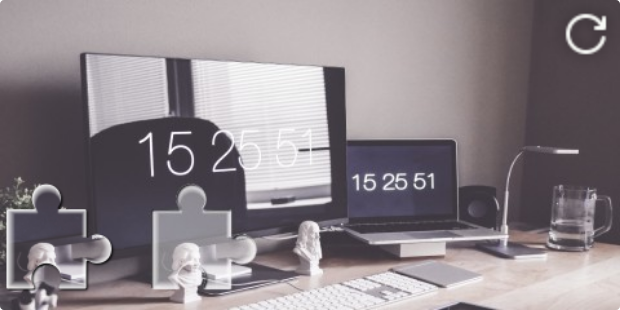target: (151, 184, 256, 290)
